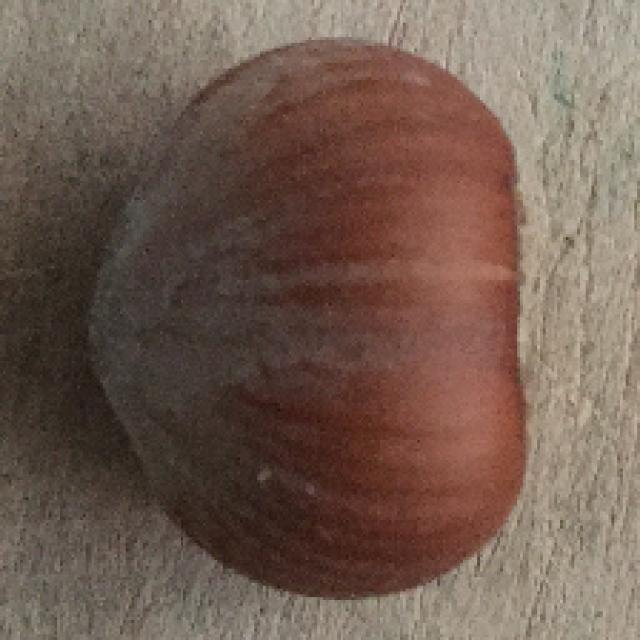qualityHazelnut: (90, 31, 547, 603)
